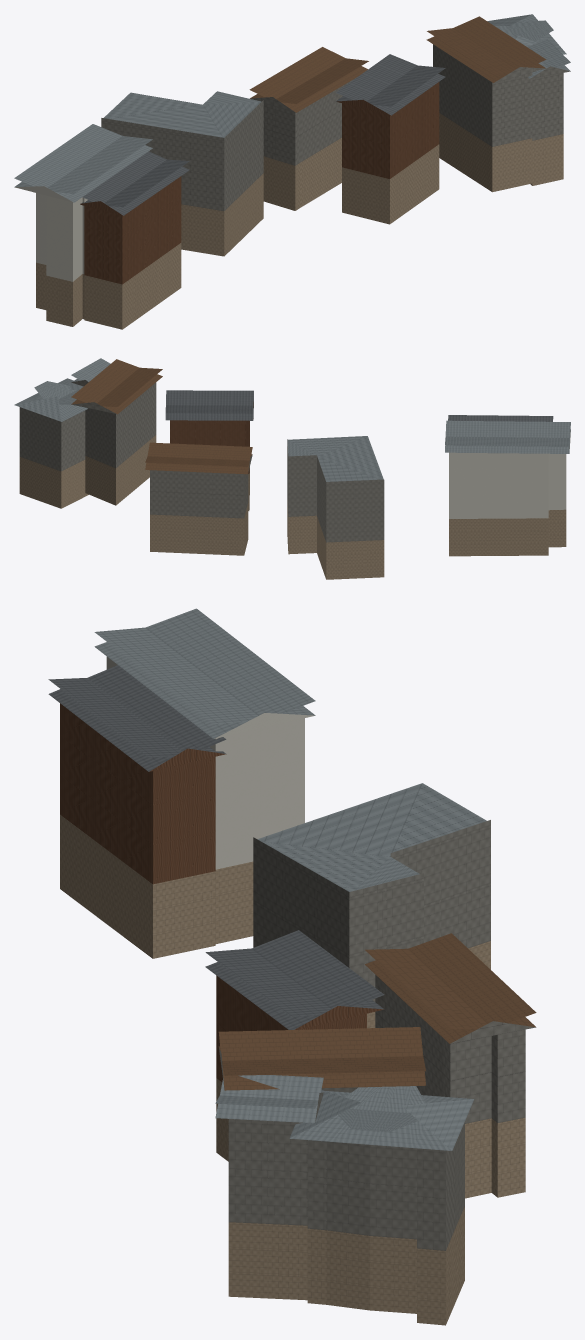
Rendered from bld_c23_30_394.gltf.
The picture shows the model from 3 angles, top to bottom: view 1: azimuth 30°, elevation 25°; view 2: azimuth 150°, elevation 25°; view 3: azimuth 270°, elevation 25°; orthographic projection. The views are drawn at different scales.
Parts seen in each view (by area): view 1: bld_c23_30_394; view 2: bld_c23_30_394; view 3: bld_c23_30_394.
Boxes of the visible parts, x1=… form: bld_c23_30_394: x1=14, y1=14, x2=570, y2=329; bld_c23_30_394: x1=14, y1=358, x2=570, y2=579; bld_c23_30_394: x1=48, y1=608, x2=536, y2=1325.
Bounding box in the file's own units: 70.38 × 17.4 × 30.27.
10 materials, 10 textured.
